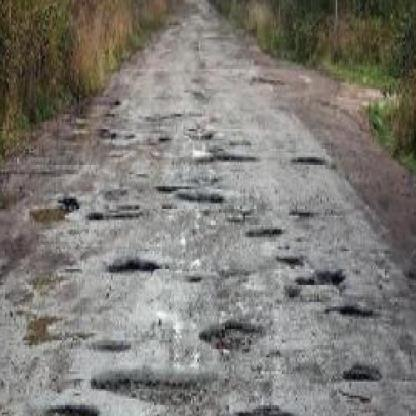pothole: (90, 367, 228, 403), (196, 319, 268, 350), (28, 194, 80, 226), (296, 267, 346, 296), (16, 399, 101, 416), (104, 254, 160, 276), (342, 361, 382, 390), (178, 184, 224, 208), (333, 299, 373, 323)
